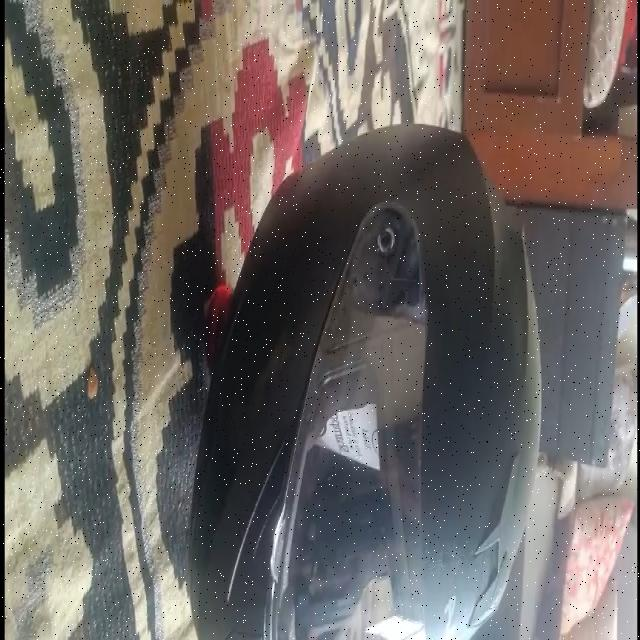Helmet: (204, 123, 543, 640)
